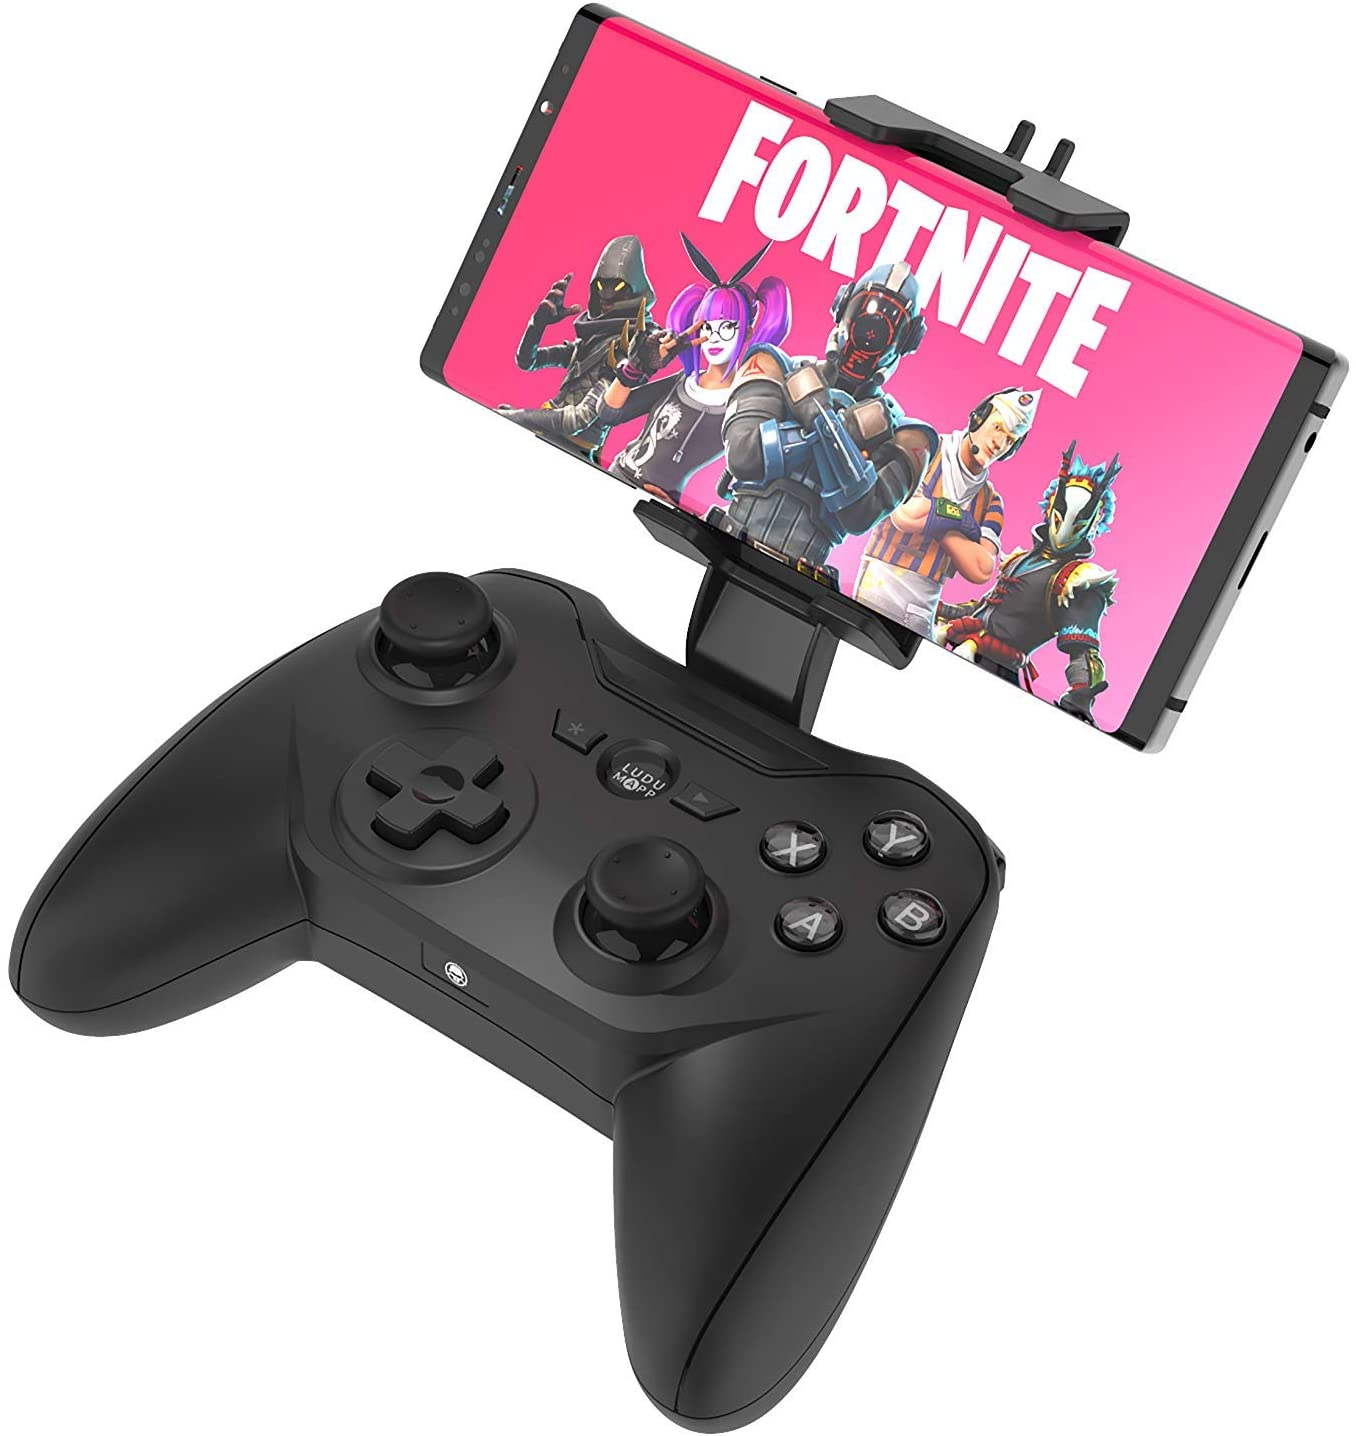controller: (8, 570, 1008, 1436)
